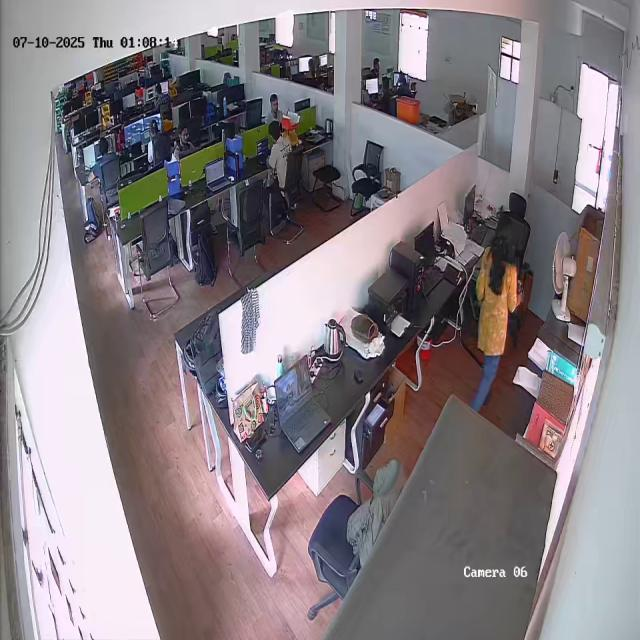person: (462, 223, 516, 418)
